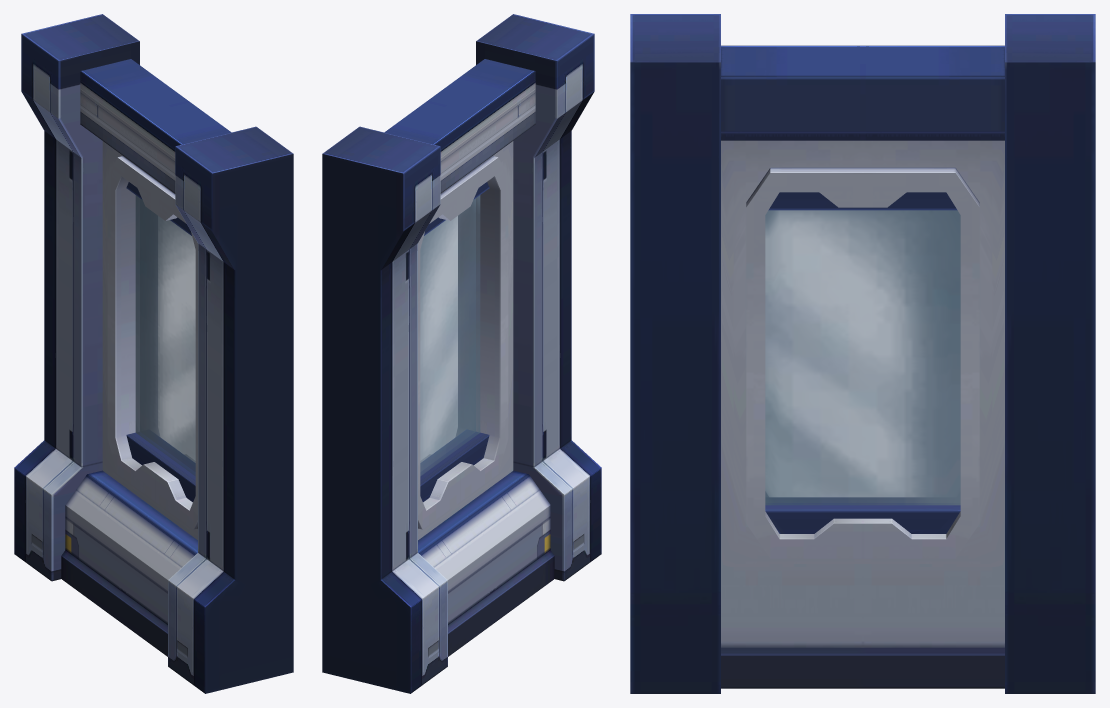
The model's file is my_carrier_01_partition_03.glb.
The picture shows the model from 3 angles, left to right: view 1: azimuth 30°, elevation 25°; view 2: azimuth 150°, elevation 25°; view 3: azimuth 270°, elevation 25°; orthographic projection. The views are drawn at different scales.
Visible parts, largest first — view 1: my_carrier_01_partition_03; view 2: my_carrier_01_partition_03; view 3: my_carrier_01_partition_03.
Boxes of the visible parts, x1=… form: my_carrier_01_partition_03: x1=14, y1=14, x2=293, y2=693; my_carrier_01_partition_03: x1=322, y1=14, x2=601, y2=693; my_carrier_01_partition_03: x1=630, y1=14, x2=1095, y2=693.
Bounding box in the file's own units: 0.0032 × 0.018 × 0.012.
Materials: 2 (2 with a texture image).
